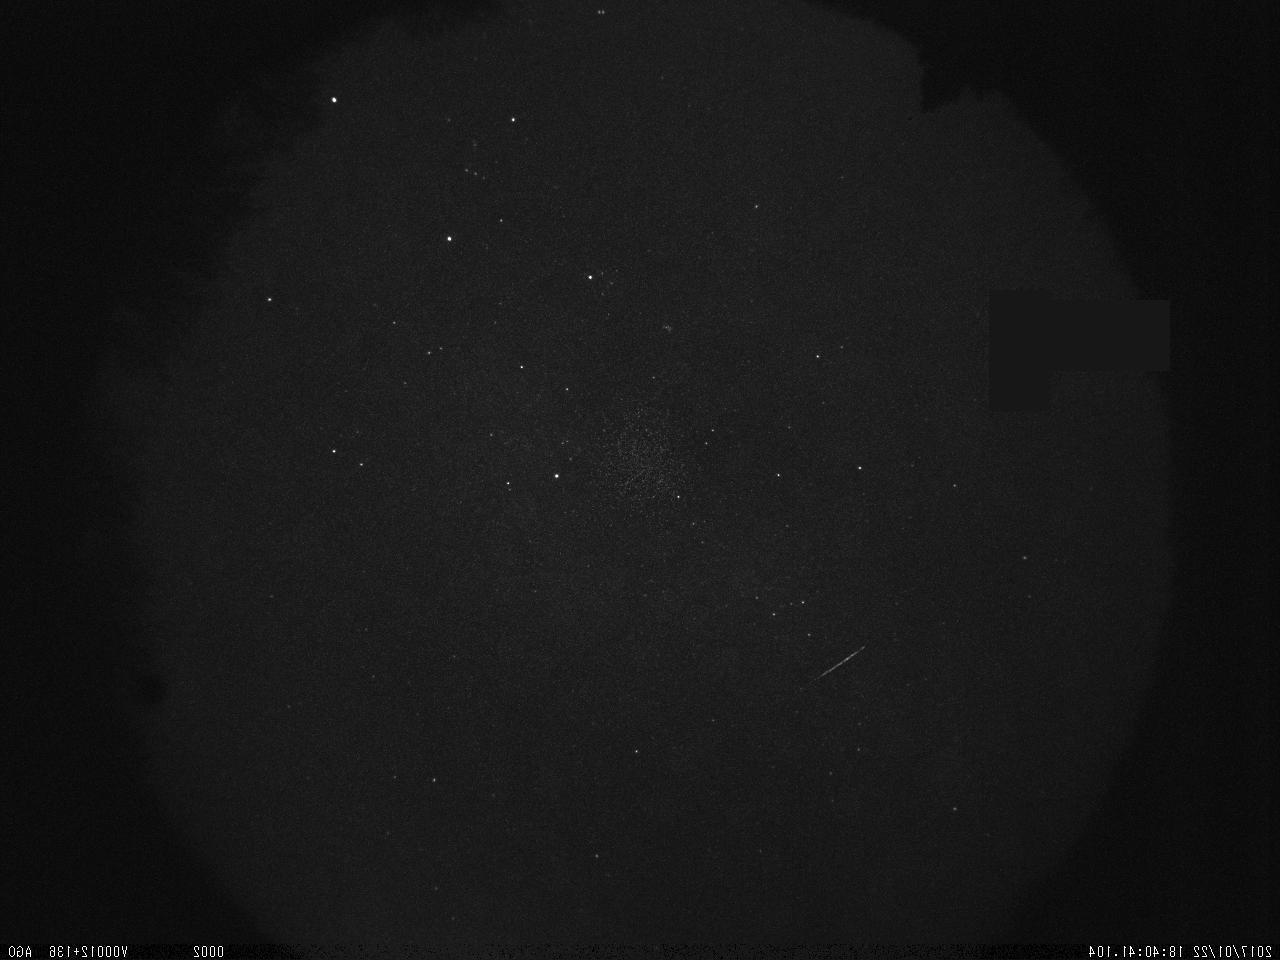meteor: (802, 644, 871, 690)
